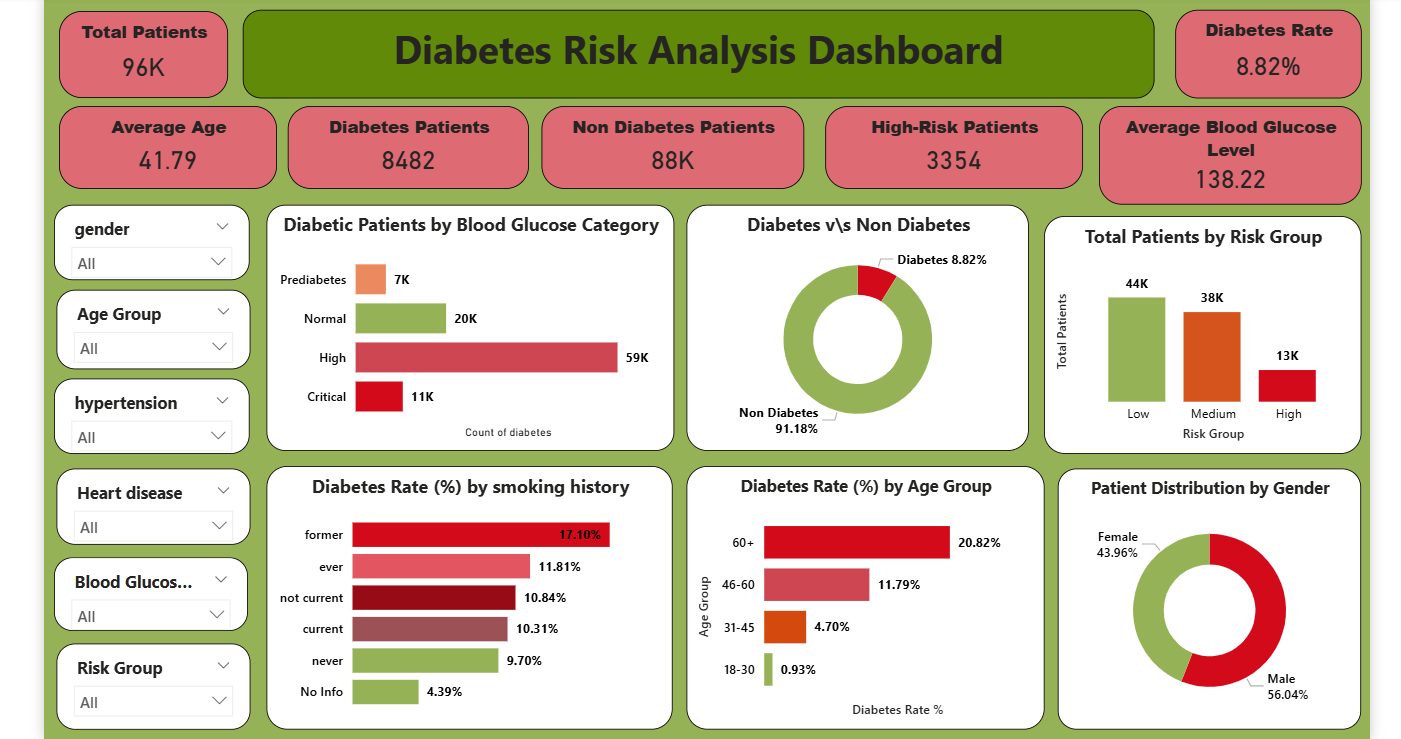

What the dashboard file says about the page in this screenshot:
{"tool":"powerbi","page":{"name":"Page 1","canvas":[1280,720],"ordinal":0},"visuals":[{"type":"textbox","box":[192.4,12.7,880.3,85.4],"z":0},{"type":"card","title":"Total Patients","fields":{"Values":["Measure.Total Patients"]},"box":[14,14,163.1,84.1],"z":1000},{"type":"card","title":"Diabetes Patients","fields":{"Values":["Measure.Diabetes Patients"]},"box":[235.7,105.7,233.1,80.3],"z":2000},{"type":"card","title":"Non Diabetes Patients","fields":{"Values":["Measure.Non Diabetes Patients"]},"box":[480.3,105.7,253.5,80.3],"z":3000},{"type":"card","title":"Diabetes Rate ","fields":{"Values":["Measure.Diabetes Rate %"]},"box":[1091.7,12.7,179.6,85.4],"z":4000},{"type":"card","title":"Average Blood Glucose Level","fields":{"Values":["Measure.Average Blood Glucose"]},"box":[1018.2,106.2,253.4,95.3],"z":5000},{"type":"donutChart","title":"Diabetes  v\\s Non Diabetes ","fields":{"Y":["Measure.Diabetes Patients","Measure.Non Diabetes Patients"]},"box":[620.1,201.5,330.6,237.7],"z":6000},{"type":"clusteredBarChart","title":"Diabetes Rate (%) by Age Group","fields":{"Category":["diabetes_prediction_dataset.Age Group"],"Y":["Measure.Diabetes Rate %"]},"box":[620.4,453.5,345.2,254.8],"z":7000},{"type":"barChart","title":"Diabetes Rate (%) by smoking history","fields":{"Category":["diabetes_prediction_dataset.smoking_history"],"Y":["Measure.Diabetes Rate %"]},"box":[215.3,453.5,392.4,254.8],"z":8000},{"type":"slicer","fields":{"Values":["diabetes_prediction_dataset.Age Group"]},"box":[11.5,284.1,187.3,76.4],"z":9000},{"type":"slicer","fields":{"Values":["diabetes_prediction_dataset.gender"]},"box":[10.2,201.3,188.5,72.6],"z":10000},{"type":"card","title":"High-Risk Patients","fields":{"Values":["Sum(diabetes_prediction_dataset.High Risk Patients)"]},"box":[754.1,105.7,248.4,80.3],"z":11000},{"type":"slicer","fields":{"Values":["diabetes_prediction_dataset.hypertension"]},"box":[10.2,369.4,188.5,72.6],"z":12000},{"type":"slicer","fields":{"Values":["diabetes_prediction_dataset.heart_disease"]},"box":[11.5,456.1,187.3,73.9],"z":13000},{"type":"slicer","fields":{"Values":["diabetes_prediction_dataset.Blood Glucose Category"]},"box":[10.2,541.4,187.3,71.3],"z":14000},{"type":"columnChart","fields":{"Category":["diabetes_prediction_dataset.Risk Group"],"Y":["Measure.Total Patients"]},"box":[965.2,212.3,306.4,229.2],"z":15000},{"type":"donutChart","title":"Patient Distribution by Gender","fields":{"Category":["diabetes_prediction_dataset.gender"],"Y":["Measure.Diabetes Rate %"]},"box":[978.3,456.1,293,252.2],"z":16000},{"type":"barChart","title":"Diabetic Patients by Blood Glucose Category","fields":{"Category":["diabetes_prediction_dataset.Blood Glucose Category"],"Y":["CountNonNull(diabetes_prediction_dataset.diabetes)"]},"box":[214.7,201.5,393.3,237.7],"z":17000},{"type":"card","title":"Average Age","fields":{"Values":["Measure.Average Age"]},"box":[14,105.7,210.2,80.3],"z":18000},{"type":"slicer","fields":{"Values":["diabetes_prediction_dataset.Risk Group"]},"box":[11.5,625.5,187.3,82.8],"z":19000}]}

Visuals, with their boxes on the page's 1280x720 design canvas (x1, y1, x2, y2). These are canvas units, not pixel positions in the 1401x739 screenshot, which may show the page scaled, cropped or inside an application window:
textbox: 192 13 1073 98
"Total Patients" card: 14 14 177 98
"Diabetes Patients" card: 236 106 469 186
"Non Diabetes Patients" card: 480 106 734 186
"Diabetes Rate " card: 1092 13 1271 98
"Average Blood Glucose Level" card: 1018 106 1272 202
"Diabetes  v\s Non Diabetes " donutChart: 620 202 951 439
"Diabetes Rate (%) by Age Group" clusteredBarChart: 620 454 966 708
"Diabetes Rate (%) by smoking history" barChart: 215 454 608 708
slicer - diabetes_prediction_dataset.Age Group: 12 284 199 360
slicer - diabetes_prediction_dataset.gender: 10 201 199 274
"High-Risk Patients" card: 754 106 1002 186
slicer - diabetes_prediction_dataset.hypertension: 10 369 199 442
slicer - diabetes_prediction_dataset.heart_disease: 12 456 199 530
slicer - diabetes_prediction_dataset.Blood Glucose Category: 10 541 198 613
columnChart - diabetes_prediction_dataset.Risk Group x Measure.Total Patients: 965 212 1272 442
"Patient Distribution by Gender" donutChart: 978 456 1271 708
"Diabetic Patients by Blood Glucose Category" barChart: 215 202 608 439
"Average Age" card: 14 106 224 186
slicer - diabetes_prediction_dataset.Risk Group: 12 626 199 708
